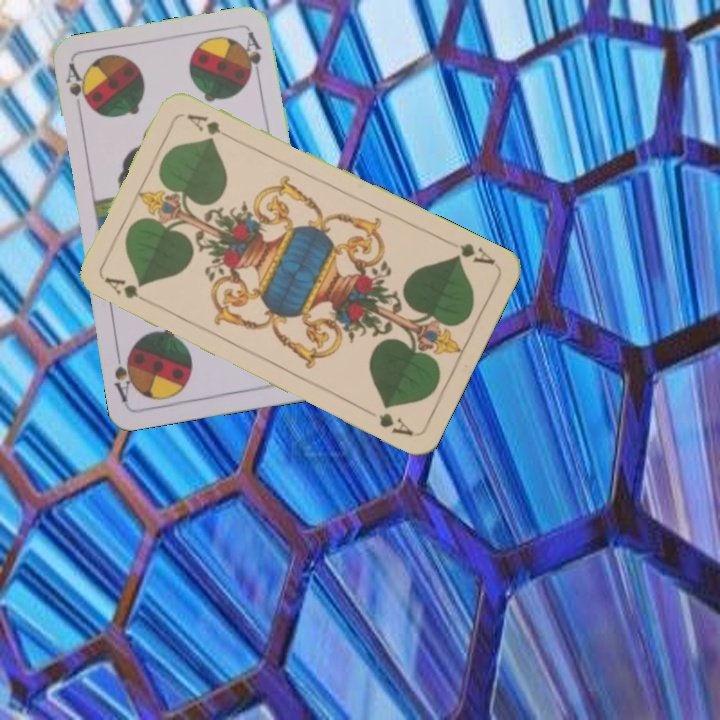GA: (100, 273, 156, 308), (449, 239, 498, 268)
SA: (62, 60, 90, 119)
